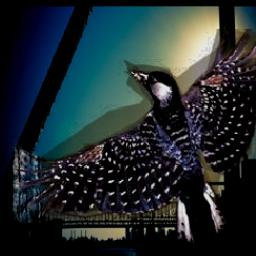Woodpecker: (14, 29, 256, 247)
